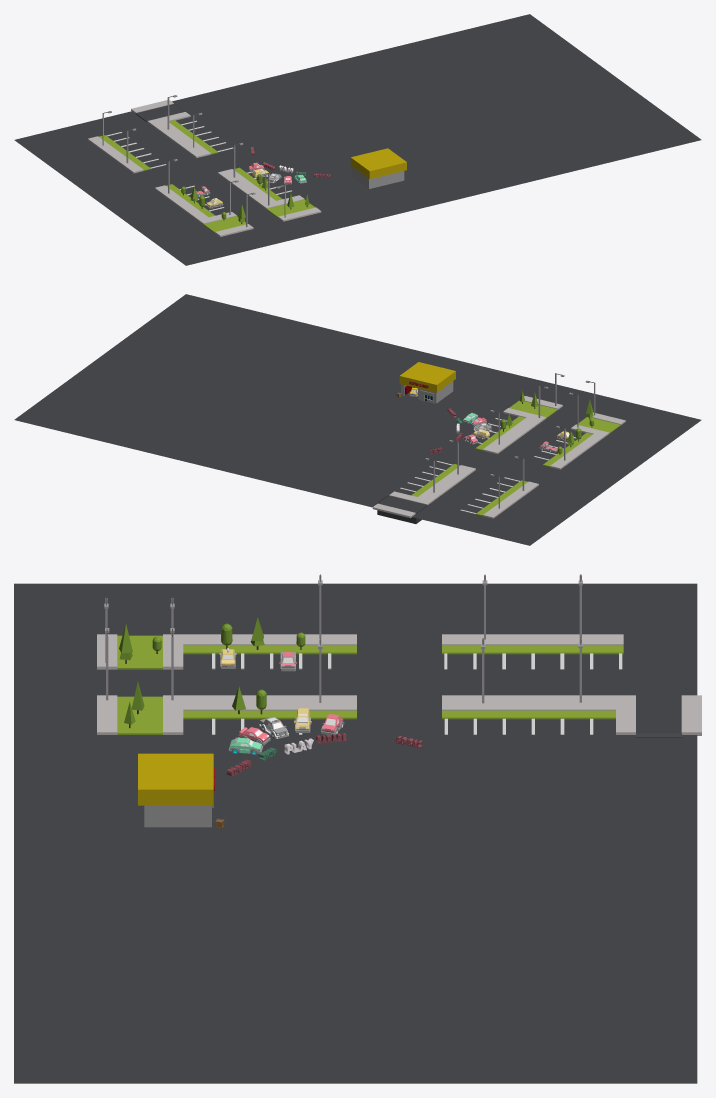
The model's file is blender1withshopv2.fbx.
3 renders of one model, top to bottom at view 1: azimuth 30°, elevation 25°; view 2: azimuth 150°, elevation 25°; view 3: azimuth 270°, elevation 25°, orthographic. The views are drawn at different scales.
Visible parts, largest first — view 1: Plane_Plane.001, Cube.905_Cube.3610, Cube.905_Cube.001, Cube.007, Cube.030_Cube.042, Cube; view 2: Plane_Plane.001, Cube.905_Cube.3610, Cube.905_Cube.001, Cube.007, Cube.030_Cube.042, Cube; view 3: Plane_Plane.001, Cube.905_Cube.3610, Cube.905_Cube.001, Cube.007, Cube.030_Cube.042, Cube, Cube.005.
Part boxes in pixels (left/top/right/bottom): Plane_Plane.001: left=14, top=14, right=701, bottom=265; Cube.905_Cube.3610: left=155, top=167, right=321, bottom=221; Cube.905_Cube.001: left=87, top=100, right=218, bottom=173; Cube.007: left=350, top=148, right=406, bottom=178; Cube.030_Cube.042: left=198, top=212, right=253, bottom=236; Cube: left=135, top=104, right=184, bottom=122; Plane_Plane.001: left=14, top=294, right=701, bottom=545; Cube.905_Cube.3610: left=475, top=396, right=605, bottom=469; Cube.905_Cube.001: left=372, top=464, right=538, bottom=518; Cube.007: left=399, top=362, right=455, bottom=392; Cube.030_Cube.042: left=571, top=412, right=625, bottom=437; Cube: left=377, top=495, right=427, bottom=523; Plane_Plane.001: left=14, top=583, right=697, bottom=1083; Cube.905_Cube.3610: left=97, top=634, right=356, bottom=734; Cube.905_Cube.001: left=442, top=634, right=701, bottom=735; Cube.007: left=138, top=753, right=213, bottom=805; Cube.030_Cube.042: left=97, top=634, right=183, bottom=669; Cube: left=636, top=696, right=681, bottom=733; Cube.005: left=144, top=805, right=211, bottom=827.
Bounding box in the file's own units: 10052 × 812 × 5845.
